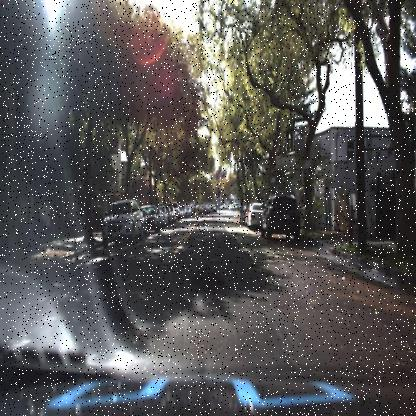car: (96, 197, 143, 246), (260, 193, 302, 240), (260, 194, 302, 238), (247, 199, 264, 227), (248, 204, 264, 231)
